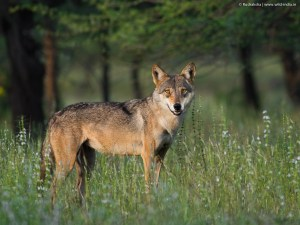wolf: (37, 62, 197, 200)
